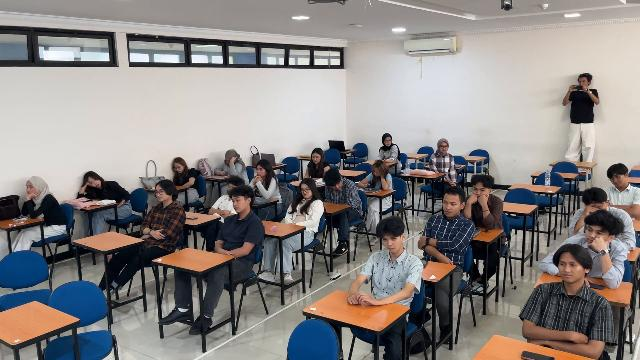bosan: (558, 258, 579, 283), (585, 225, 607, 245), (443, 197, 458, 217), (382, 236, 398, 253), (472, 184, 486, 199), (231, 196, 244, 212), (587, 201, 607, 211), (610, 174, 624, 186), (155, 186, 165, 201), (88, 177, 100, 188), (301, 186, 311, 198), (26, 181, 34, 195), (256, 166, 265, 176), (174, 163, 182, 173), (312, 154, 320, 163), (373, 168, 379, 177)
